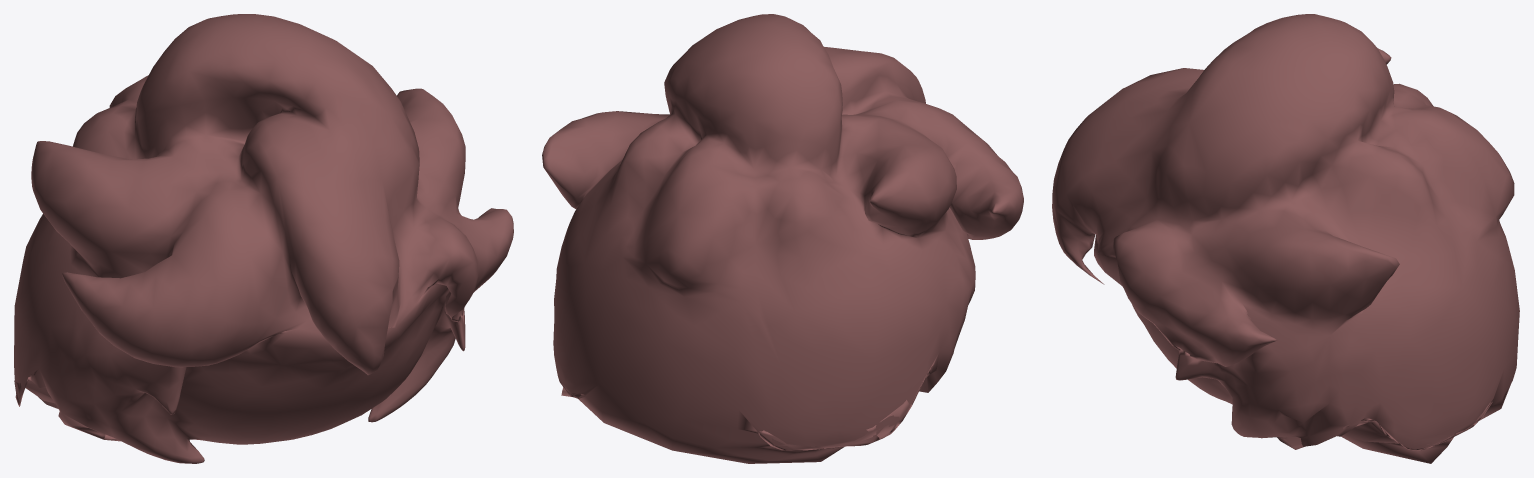
The model's file is cocoa_hair_authored.glb.
The picture shows the model from 3 angles, left to right: view 1: azimuth 30°, elevation 25°; view 2: azimuth 150°, elevation 25°; view 3: azimuth 270°, elevation 25°; orthographic projection. The views are drawn at different scales.
Visible parts, largest first — view 1: CocoaHairMesh; view 2: CocoaHairMesh; view 3: CocoaHairMesh.
Part boxes in pixels (bbox=[...]): CocoaHairMesh: bbox=[14, 14, 513, 463]; CocoaHairMesh: bbox=[542, 14, 1023, 463]; CocoaHairMesh: bbox=[1052, 14, 1519, 463].
Bounding box in the file's own units: 0.8407 × 0.7091 × 0.8098.
